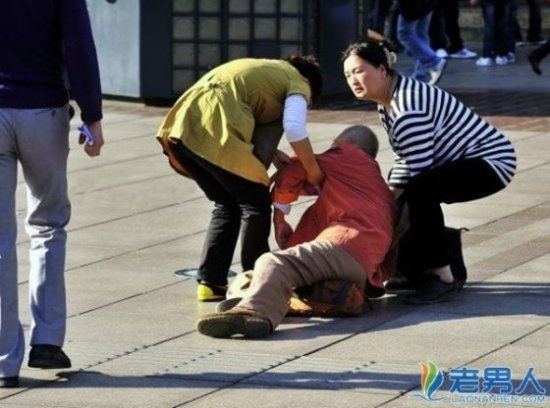falling: (190, 117, 403, 340)
